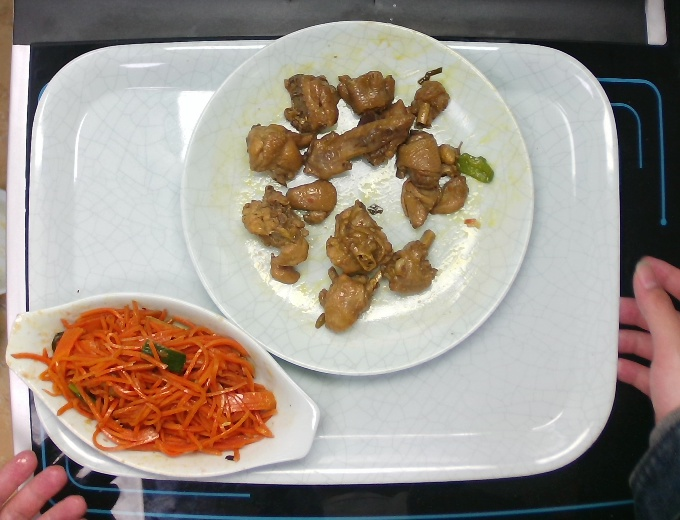JYsf-Da_Yuan_Pan: (175, 21, 538, 382)
JYsf-Yu_Pan: (5, 288, 327, 491)
